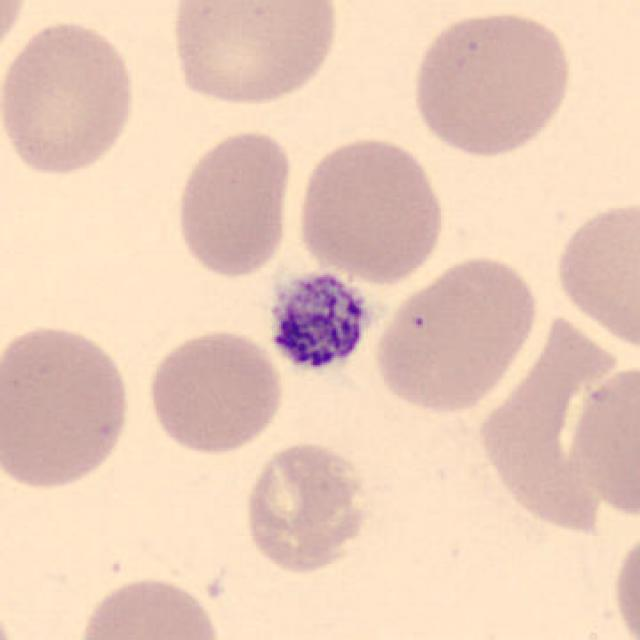Platelets: (261, 266, 375, 379)
RBC: (471, 307, 633, 538), (368, 250, 544, 418), (407, 7, 576, 160), (0, 318, 137, 496), (292, 132, 449, 286), (0, 14, 140, 179), (171, 125, 297, 282), (165, 0, 343, 111), (142, 324, 288, 458), (240, 438, 373, 578), (549, 194, 640, 360), (563, 358, 640, 523), (73, 571, 224, 640), (608, 522, 640, 640), (0, 2, 32, 74), (0, 596, 21, 640)
